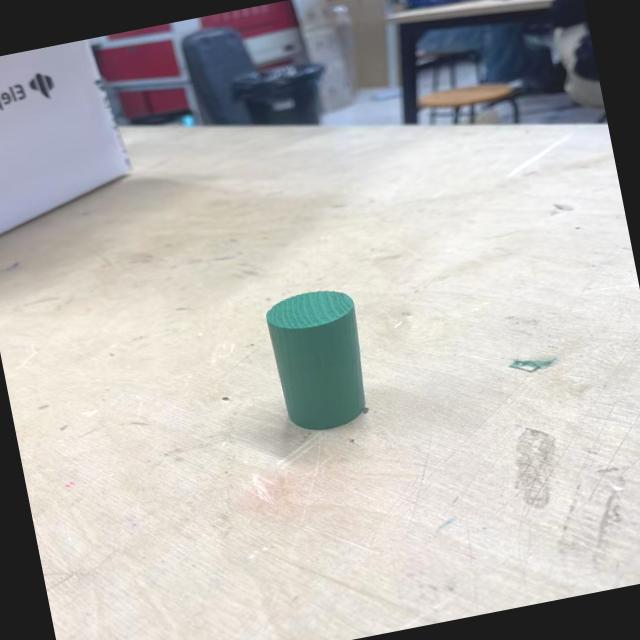green_cylinder: (262, 284, 376, 438)
